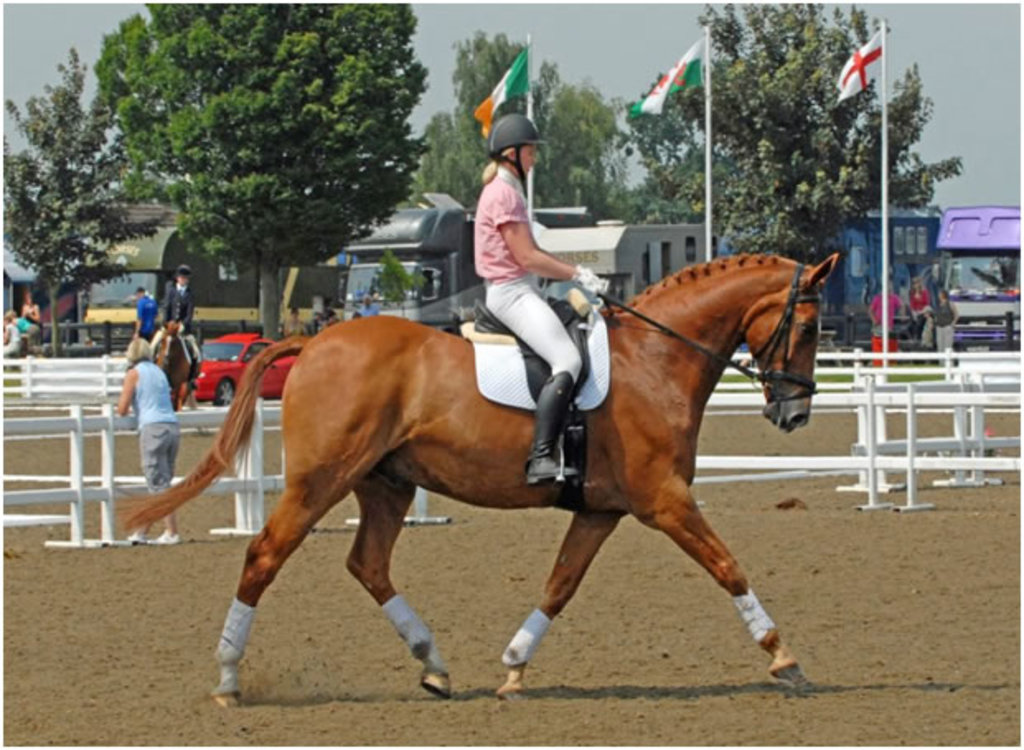horse: (117, 249, 841, 709)
